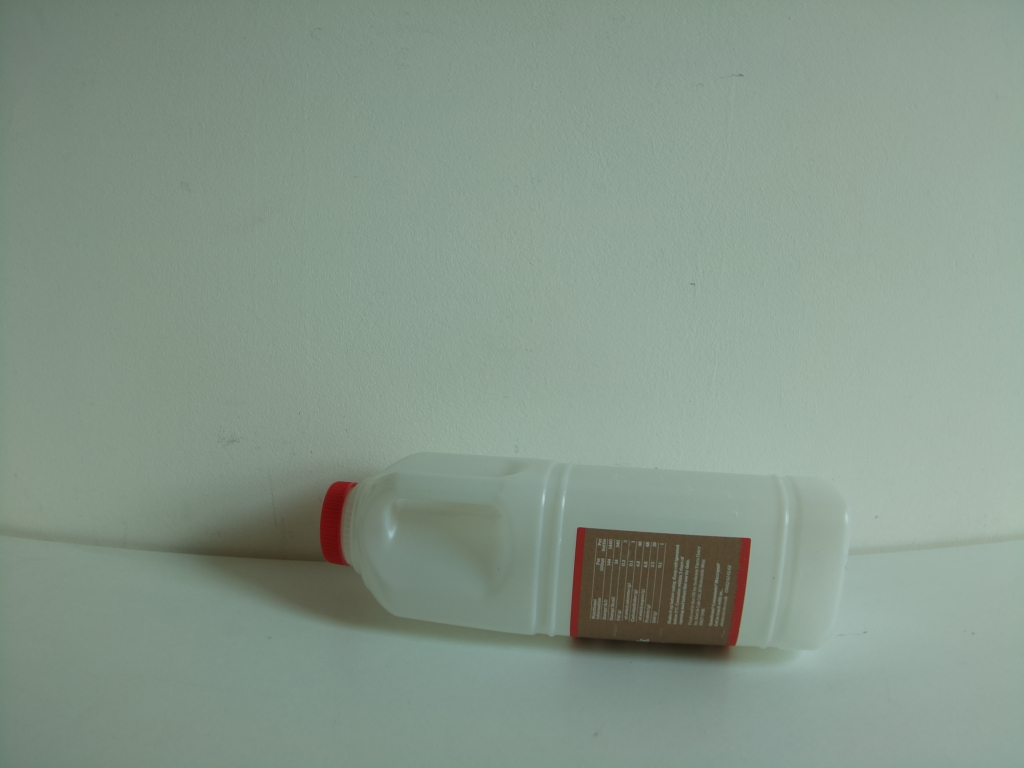milk: (319, 449, 856, 659)
